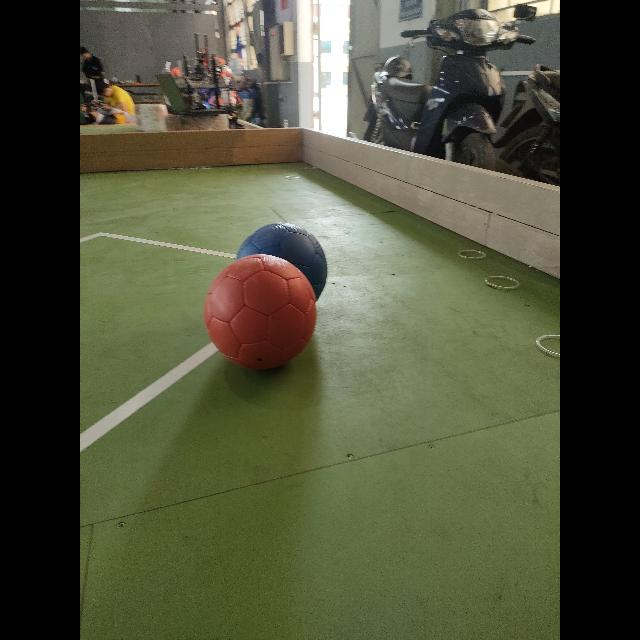B: (237, 224, 327, 298)
R: (204, 255, 316, 369)
